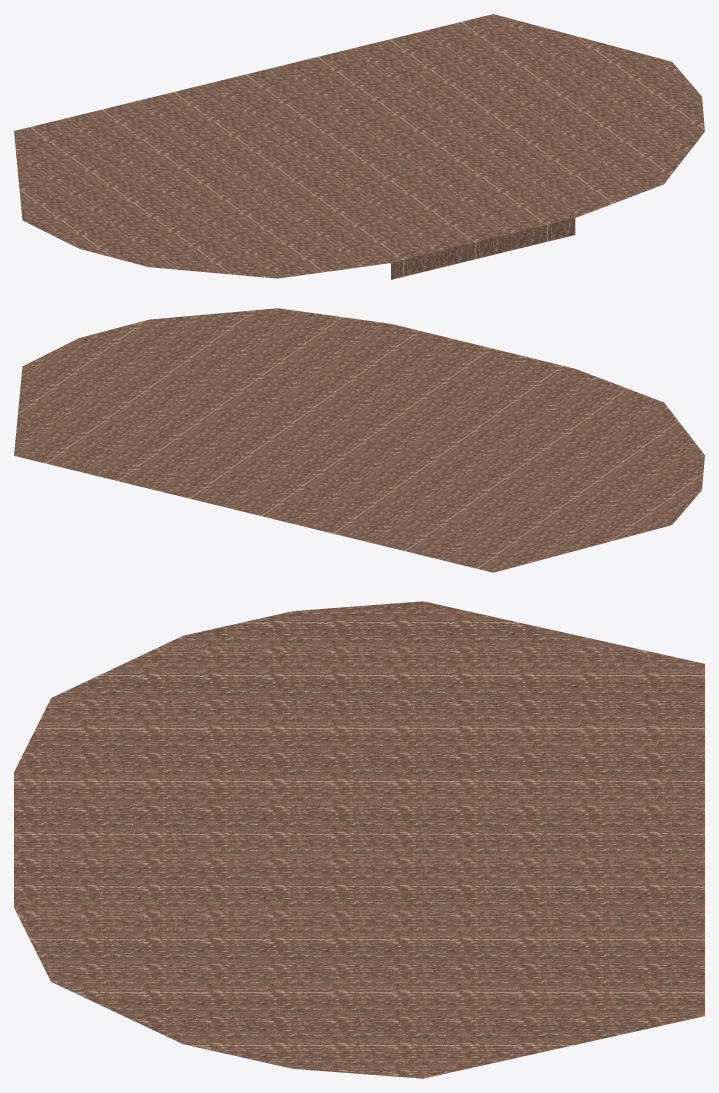
Rendered from tile_towerground.fbx.
3 renders of one model, top to bottom at view 1: azimuth 30°, elevation 25°; view 2: azimuth 150°, elevation 25°; view 3: azimuth 270°, elevation 25°, orthographic. The views are drawn at different scales.
Visible parts, largest first — view 1: towerground; view 2: towerground; view 3: towerground.
Boxes of the visible parts, bbox=[...] form: towerground: bbox=[14, 14, 704, 279]; towerground: bbox=[14, 308, 704, 572]; towerground: bbox=[14, 601, 704, 1078].
Bounding box in the file's own units: 14080 × 8613 × 350.
